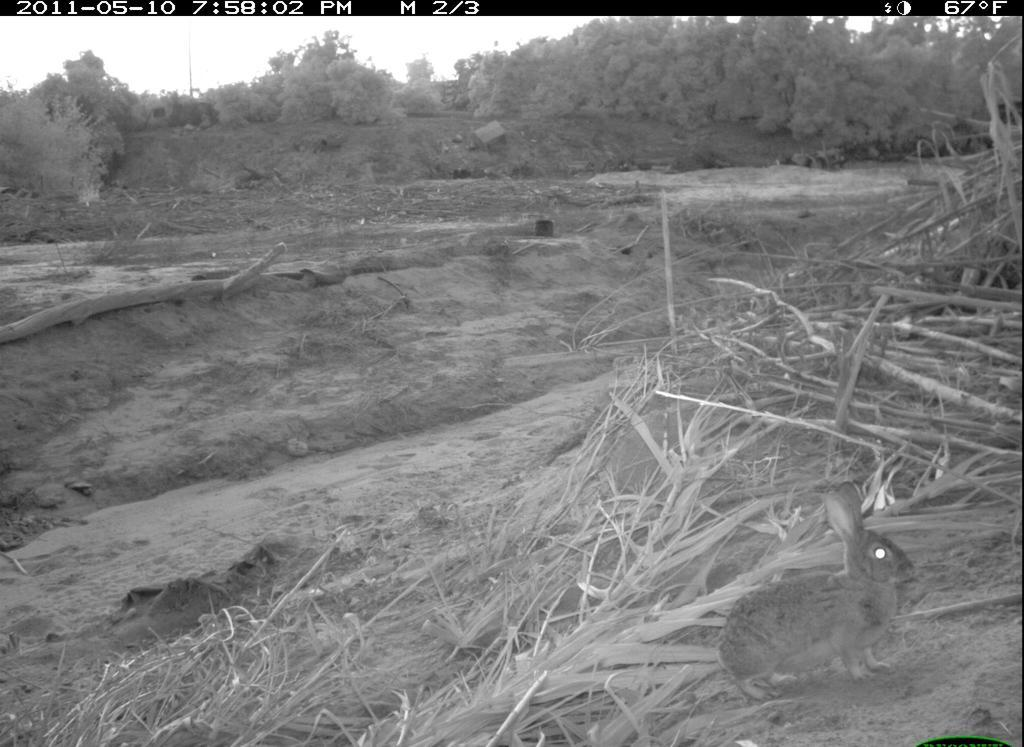rabbit: (690, 473, 934, 698)
